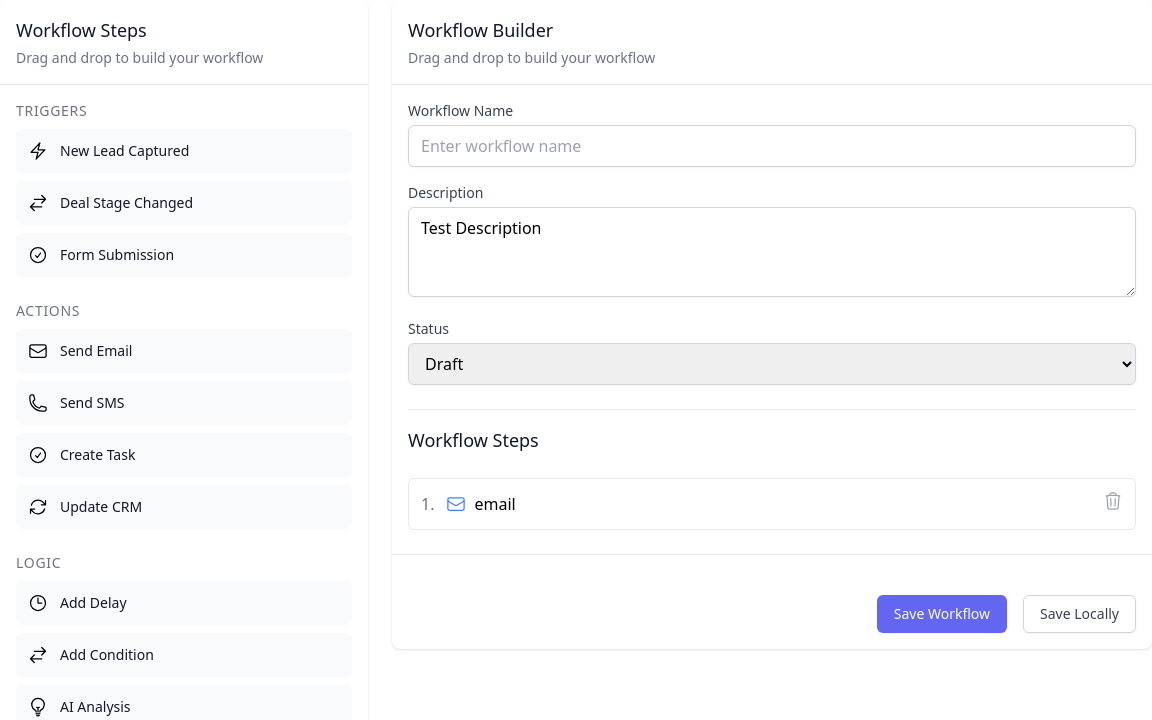
Scenario: WorkflowBuilder › handles form validation errors correctly
# Try to save with empty name
Step 1. Click the button "Save Workflow" → (942, 614), box [877, 595, 1007, 633]
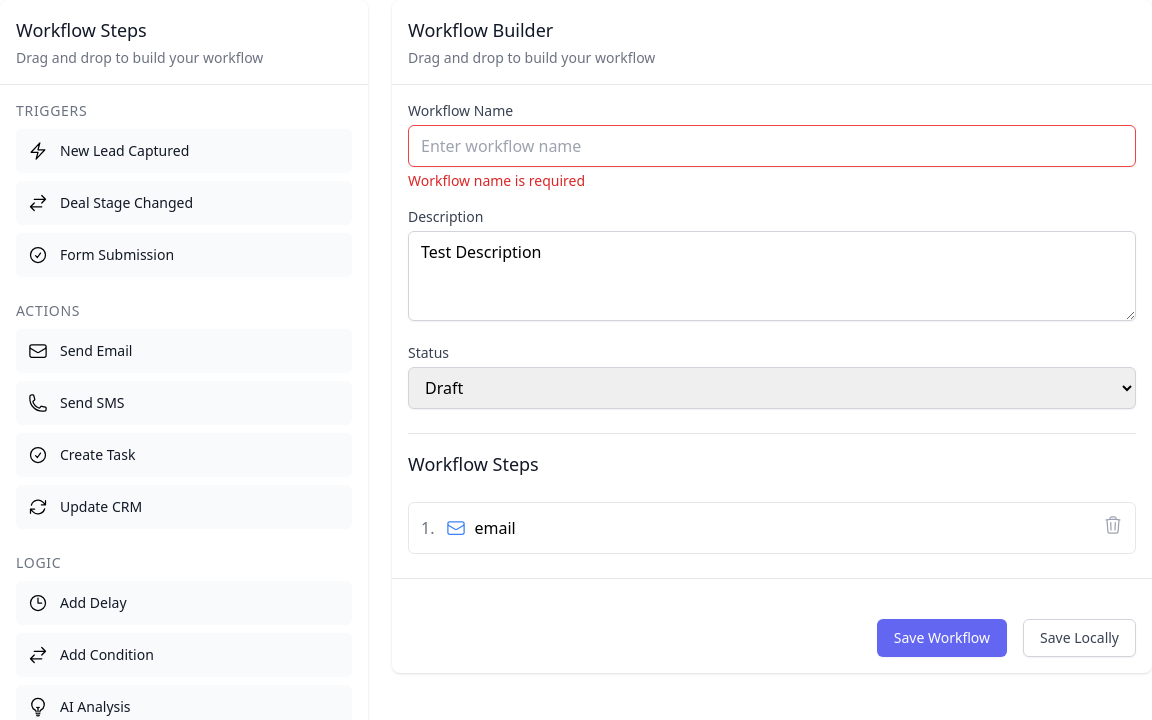
Now the text "Workflow name is required" is shown, box [408, 171, 585, 190]
